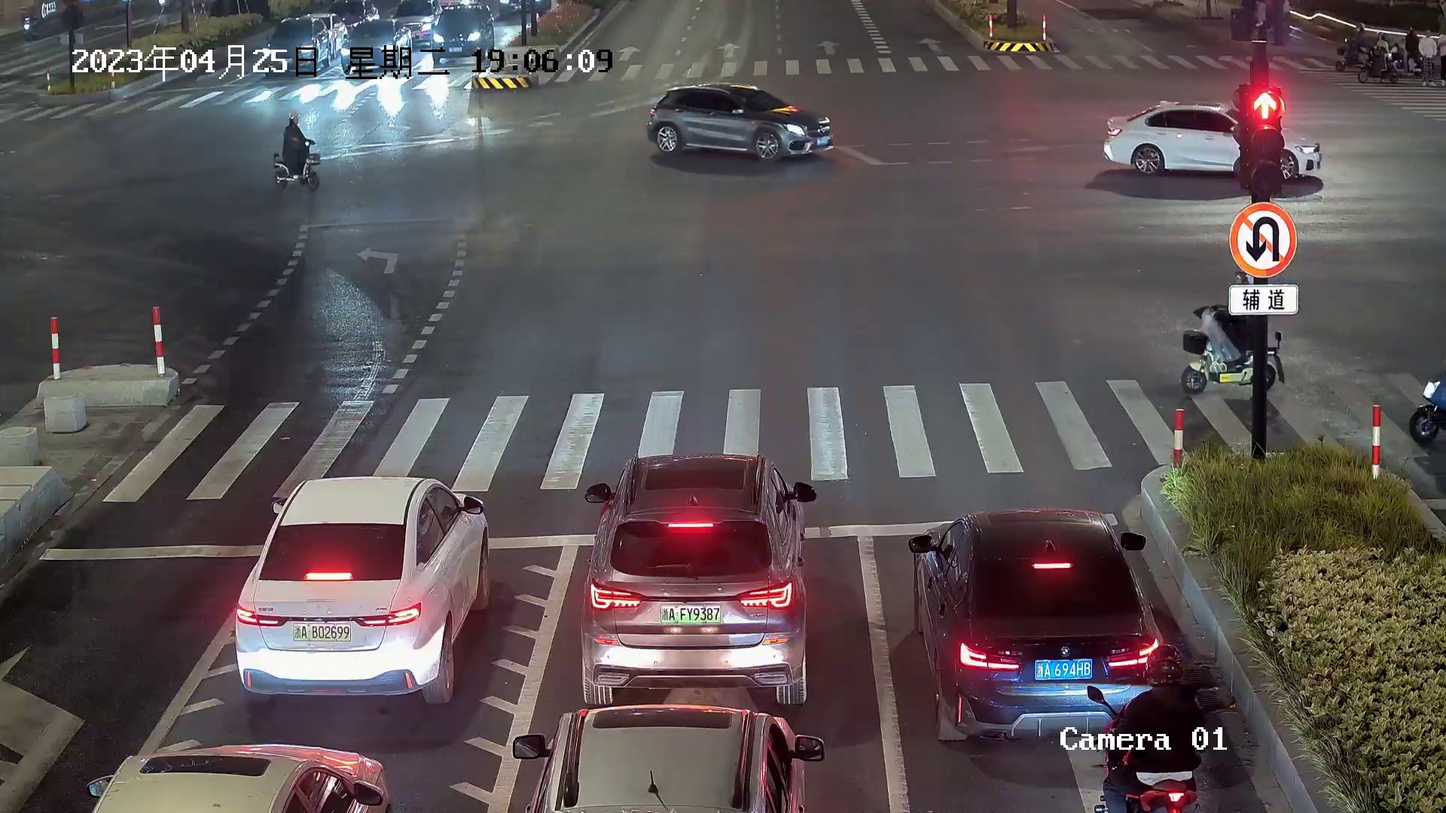person: (1120, 641, 1197, 783), (282, 108, 307, 164), (1419, 29, 1438, 86), (1371, 28, 1390, 66), (1351, 22, 1366, 52)
vehicle: (901, 500, 1173, 741), (575, 443, 813, 709), (236, 474, 494, 707), (506, 700, 825, 813), (85, 738, 391, 813), (1100, 96, 1325, 175), (642, 75, 834, 159), (1170, 318, 1289, 386), (429, 4, 494, 62), (268, 144, 321, 191), (1358, 55, 1400, 85)
